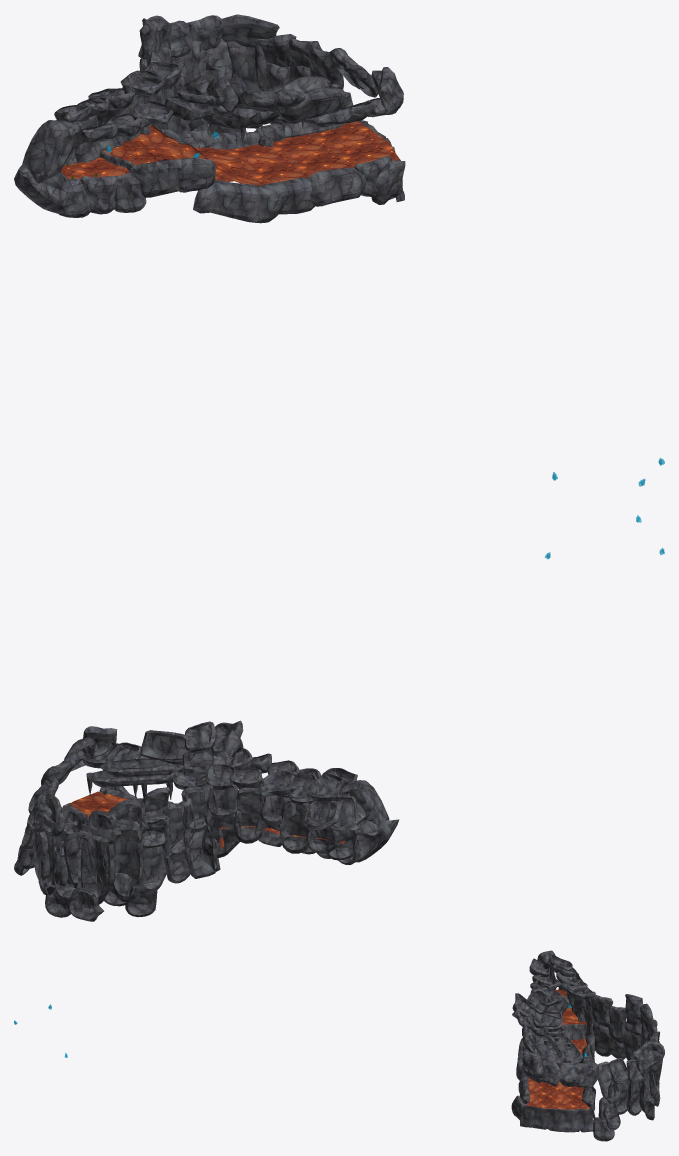
Rendered from dungeon_environment_embedded_media.fbx.
The picture shows the model from 3 angles, top to bottom: view 1: azimuth 30°, elevation 25°; view 2: azimuth 150°, elevation 25°; view 3: azimuth 270°, elevation 25°; orthographic projection. The views are drawn at different scales.
Visible parts, largest first — view 1: base_terrain_cave_only2, rock_xxl_01.073, rock_xxl_01.063, rock_xxl_163, rock_xxl_177, rock_xxl_186, rock_xxl_200, rock_xxl_149, rock_xxl_166, rock_xxl_188, rock_xxl_191, rock_xxl_181 (+19 smaller); view 2: rock_xxl_194, rock_xxl_201, rock_xxl_01.063, rock_xxl_149, rock_xxl_154, rock_xxl_184, rock_xxl_189, rock_xxl_173, rock_xxl_159, rock_xxl_207, rock_xxl_175, rock_xxl_208 (+28 smaller); view 3: base_terrain_cave_only2, cliff_7, rock_xxl_207, rock_xxl_171, rock_xxl_173, rock_xxl_208, rock_xxl_183, rock_xxl_200, rock_xxl_181, rock_xxl_190, rock_xxl_184, rock_xxl_151 (+15 smaller).
Part boxes in pixels (x1,y1,x2,y2): base_terrain_cave_only2: (60,121,399,186); rock_xxl_01.073: (193,180,284,223); rock_xxl_01.063: (22,120,81,183); rock_xxl_163: (307,167,366,206); rock_xxl_177: (14,162,73,213); rock_xxl_186: (129,159,186,197); rock_xxl_200: (221,14,279,47); rock_xxl_149: (279,89,345,122); rock_xxl_166: (263,177,314,214); rock_xxl_188: (80,175,117,214); rock_xxl_191: (178,158,215,192); rock_xxl_181: (227,41,266,128); rock_xxl_194: (112,819,143,901); rock_xxl_201: (78,824,115,905); rock_xxl_01.063: (335,780,389,837); rock_xxl_149: (140,730,194,764); rock_xxl_154: (233,787,264,843); rock_xxl_184: (183,818,215,878); rock_xxl_189: (137,834,170,894); rock_xxl_173: (100,758,190,777); rock_xxl_159: (202,807,241,857); rock_xxl_207: (162,798,195,858); rock_xxl_175: (280,797,311,853); rock_xxl_208: (181,784,218,832); base_terrain_cave_only2: (527,989,589,1117); cliff_7: (520,1103,592,1132); rock_xxl_207: (608,1006,627,1043); rock_xxl_171: (546,1032,582,1063); rock_xxl_173: (528,1032,564,1063); rock_xxl_208: (591,994,613,1026); rock_xxl_183: (575,1061,599,1088); rock_xxl_200: (633,1041,664,1073); rock_xxl_181: (639,1054,655,1113); rock_xxl_190: (597,1061,620,1101); rock_xxl_184: (592,1021,610,1056); rock_xxl_151: (538,1059,562,1086).
Bounding box in the file's own units: 29.92 × 12.43 × 73.52.
4 materials, 4 textured.
